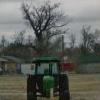Tractor: (21, 49, 76, 100)
